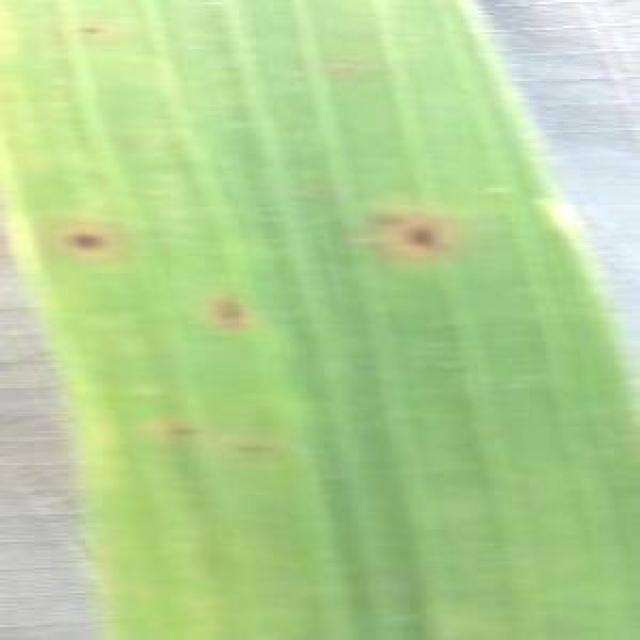Rice_Brownspot: (47, 215, 121, 262), (194, 284, 258, 338), (384, 213, 450, 256), (226, 431, 284, 465), (357, 198, 408, 232), (158, 416, 207, 444), (66, 14, 111, 40)
